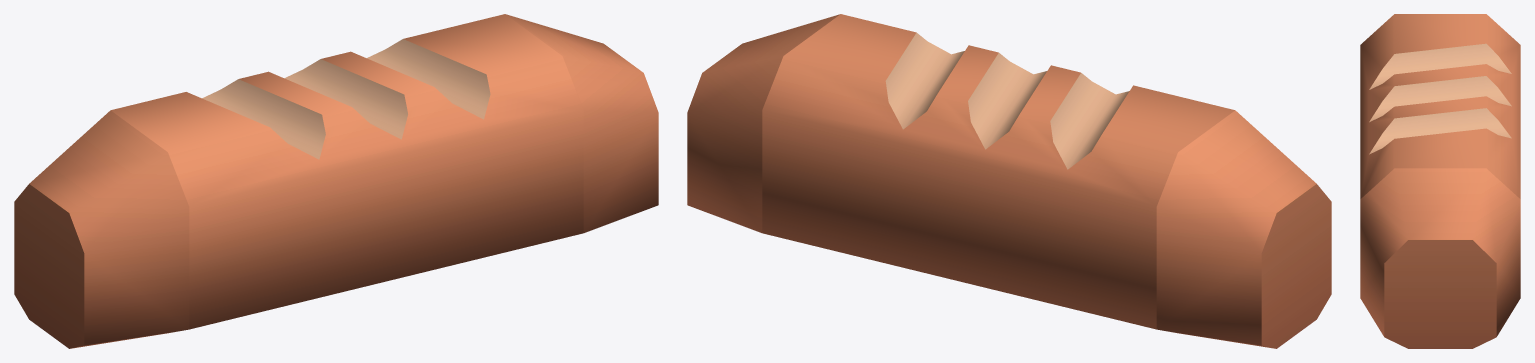
File: loaf-baguette.glb
3 views of the same model, side by side, from view 1: azimuth 30°, elevation 25°; view 2: azimuth 150°, elevation 25°; view 3: azimuth 270°, elevation 25° (orthographic). The views are drawn at different scales.
Parts seen in each view (by area): view 1: loaf-baguette; view 2: loaf-baguette; view 3: loaf-baguette.
Boxes of the visible parts, x1,y1,x2,y2 form: loaf-baguette: (14, 14, 658, 348); loaf-baguette: (687, 14, 1331, 348); loaf-baguette: (1360, 14, 1520, 348).
Bounding box in the file's own units: 0.83 × 0.25 × 0.25.
1 material, 1 textured.
